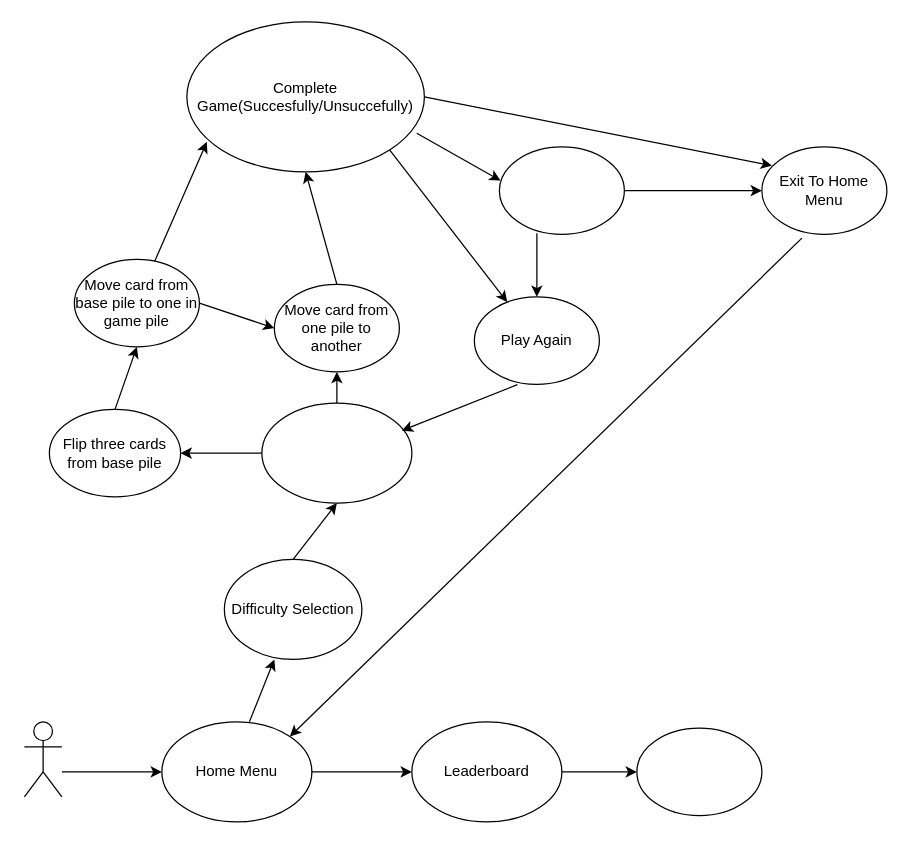
Some shapes in this 909 by 845 pixel diagram are drawn without their labels. The centre of each missing label's shape, as x and y in pixels:
Enter High Score (If applicable): point 561,190
Play: point 336,452
Player: point 42,759
View Leaderboard: point 699,771
